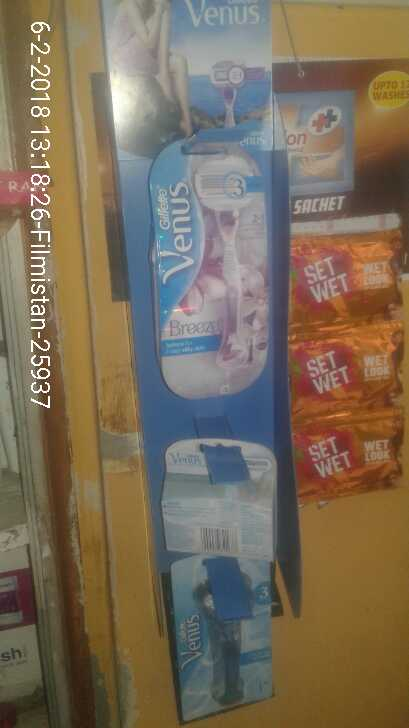venus: (153, 145, 275, 387), (171, 548, 275, 714)
